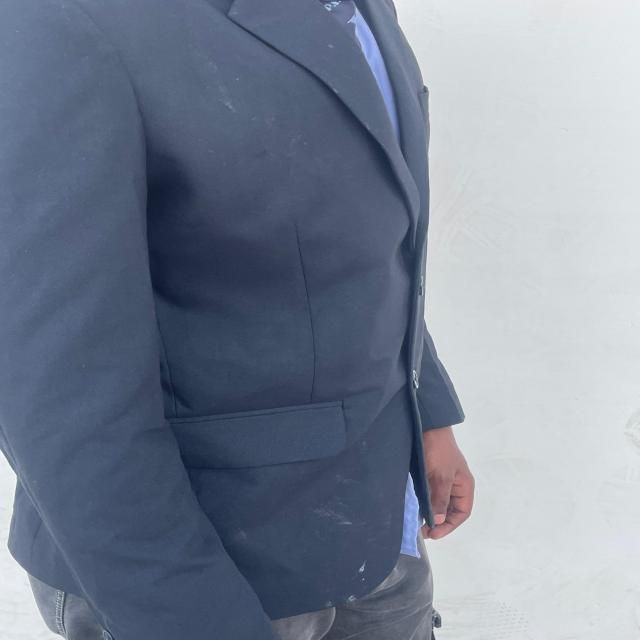uniform: (1, 0, 467, 639)
